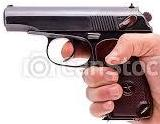gun: (1, 1, 160, 124)
